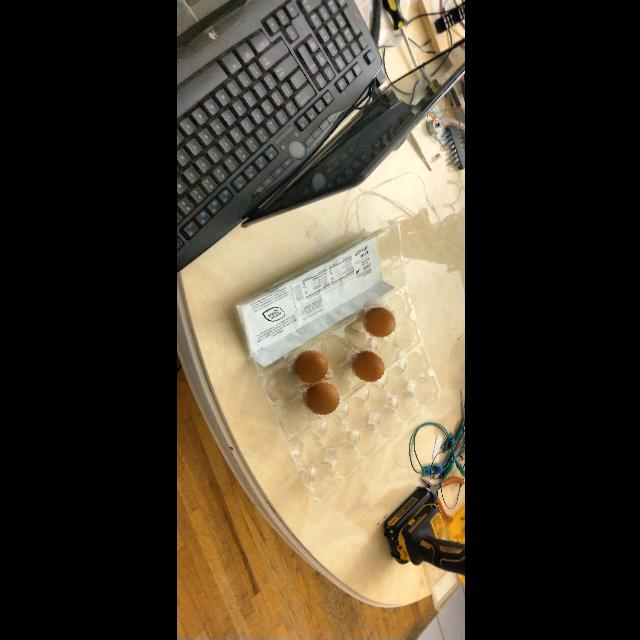Egg: (353, 300, 403, 344), (283, 346, 329, 386), (300, 378, 342, 420), (344, 346, 388, 386)
